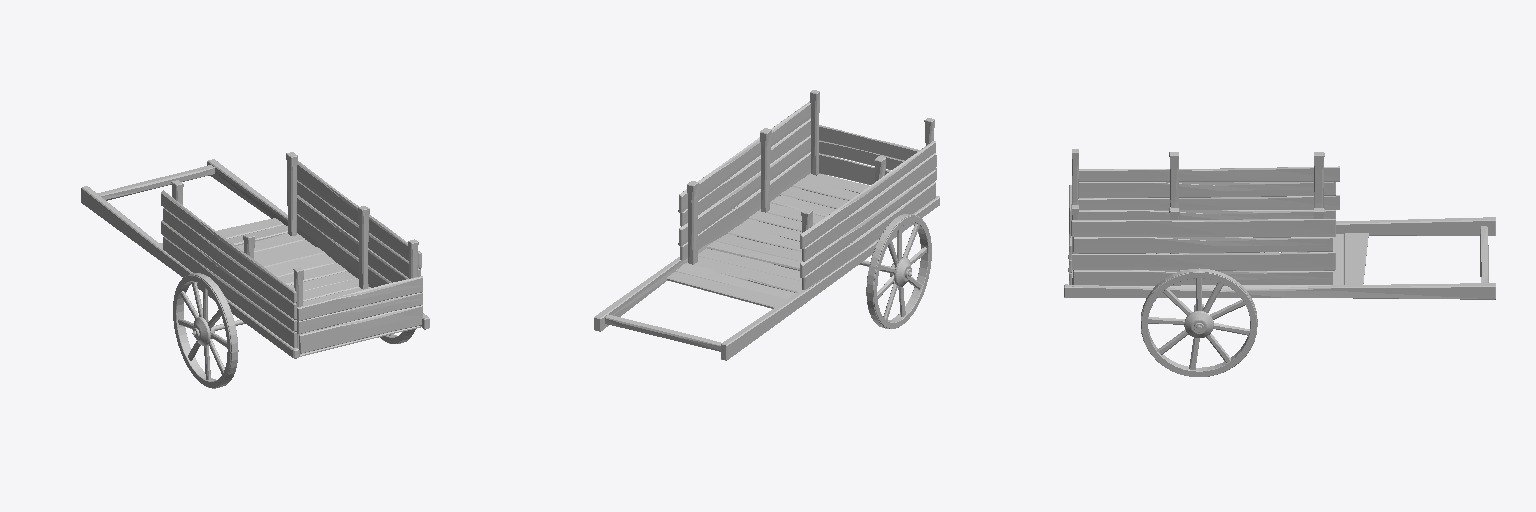
Rendered from cart.obj.
The picture shows the model from 3 angles: view 1: azimuth 30°, elevation 25°; view 2: azimuth 150°, elevation 25°; view 3: azimuth 270°, elevation 25°; orthographic projection.
Visible parts, largest first — view 1: carrage2 carrage1 carrage:pCube14, carrage2 carrage1 carrage:pCube17, carrage2 carrage1 pCube25, carrage2 carrage1 pCube24, carrage2 carrage1 pCube26, carrage2 carrage1 carrage:pCube19, carrage2 carrage1 carrage:pCube25, carrage1 right_wheel wheels carrage:polySurface3, carrage2 carrage1 carrage:pCube24, carrage2 carrage1 carrage:pCube26, carrage2 carrage1 carrage:pCube13, carrage2 carrage1 pCube27 (+11 smaller); view 2: carrage2 carrage1 carrage:pCube14, carrage2 carrage1 pCube25, carrage2 carrage1 pCube26, carrage2 carrage1 carrage:pCube26, carrage2 carrage1 pCube24, carrage2 carrage1 carrage:pCube25, carrage2 carrage1 carrage:pCube13, carrage1 right_wheel wheels carrage:polySurface3, carrage2 carrage1 carrage:pCube24, carrage2 carrage1 carrage:pCube27, carrage2 carrage1 pCube27, carrage2 carrage1 carrage:pCube19 (+19 smaller); view 3: carrage2 carrage1 carrage:pCube13, carrage2 carrage1 pCube26, carrage2 carrage1 carrage:pCube26, carrage2 carrage1 pCube27, carrage2 carrage1 pCube25, carrage2 carrage1 pCube24, carrage2 carrage1 carrage:pCube27, carrage2 carrage1 carrage:pCube24, carrage2 carrage1 carrage:pCube14, carrage1 wheels left_wheel carrage:polySurface3, carrage2 carrage1 carrage:pCube25, carrage2 carrage1 carrage:pCube1 (+2 smaller).
Boxes of the visible parts, <box> form: carrage2 carrage1 carrage:pCube14: <box>81,186,299,358</box>; carrage2 carrage1 carrage:pCube17: <box>299,305,422,353</box>; carrage2 carrage1 pCube25: <box>163,208,296,319</box>; carrage2 carrage1 pCube24: <box>161,190,296,302</box>; carrage2 carrage1 pCube26: <box>297,161,421,268</box>; carrage2 carrage1 carrage:pCube19: <box>297,276,422,321</box>; carrage2 carrage1 carrage:pCube25: <box>163,237,296,347</box>; carrage1 right_wheel wheels carrage:polySurface3: <box>173,275,238,387</box>; carrage2 carrage1 carrage:pCube24: <box>161,220,296,331</box>; carrage2 carrage1 carrage:pCube26: <box>287,191,408,282</box>; carrage2 carrage1 carrage:pCube13: <box>207,159,429,329</box>; carrage2 carrage1 pCube27: <box>297,180,420,277</box>; carrage2 carrage1 carrage:pCube14: <box>721,196,939,360</box>; carrage2 carrage1 pCube25: <box>802,153,935,261</box>; carrage2 carrage1 pCube26: <box>678,101,810,212</box>; carrage2 carrage1 carrage:pCube26: <box>678,135,810,246</box>; carrage2 carrage1 pCube24: <box>800,141,935,248</box>; carrage2 carrage1 carrage:pCube25: <box>802,182,935,289</box>; carrage2 carrage1 carrage:pCube13: <box>594,169,810,331</box>; carrage1 right_wheel wheels carrage:polySurface3: <box>866,216,931,328</box>; carrage2 carrage1 carrage:pCube24: <box>800,170,935,277</box>; carrage2 carrage1 carrage:pCube27: <box>680,152,810,259</box>; carrage2 carrage1 pCube27: <box>680,118,810,226</box>; carrage2 carrage1 carrage:pCube19: <box>819,125,936,166</box>; carrage2 carrage1 carrage:pCube13: <box>1064,283,1495,299</box>; carrage2 carrage1 pCube26: <box>1071,219,1335,237</box>; carrage2 carrage1 carrage:pCube26: <box>1072,252,1335,270</box>; carrage2 carrage1 pCube27: <box>1073,237,1332,253</box>; carrage2 carrage1 pCube25: <box>1079,182,1335,197</box>; carrage2 carrage1 pCube24: <box>1079,166,1339,181</box>; carrage2 carrage1 carrage:pCube27: <box>1073,270,1332,285</box>; carrage2 carrage1 carrage:pCube24: <box>1078,195,1339,209</box>; carrage2 carrage1 carrage:pCube14: <box>1336,217,1495,235</box>; carrage1 wheels left_wheel carrage:polySurface3: <box>1141,272,1256,376</box>; carrage2 carrage1 carrage:pCube25: <box>1079,210,1335,219</box>; carrage2 carrage1 carrage:pCube1: <box>1344,233,1368,284</box>.
Bounding box in the file's own units: 258 × 181 × 467.